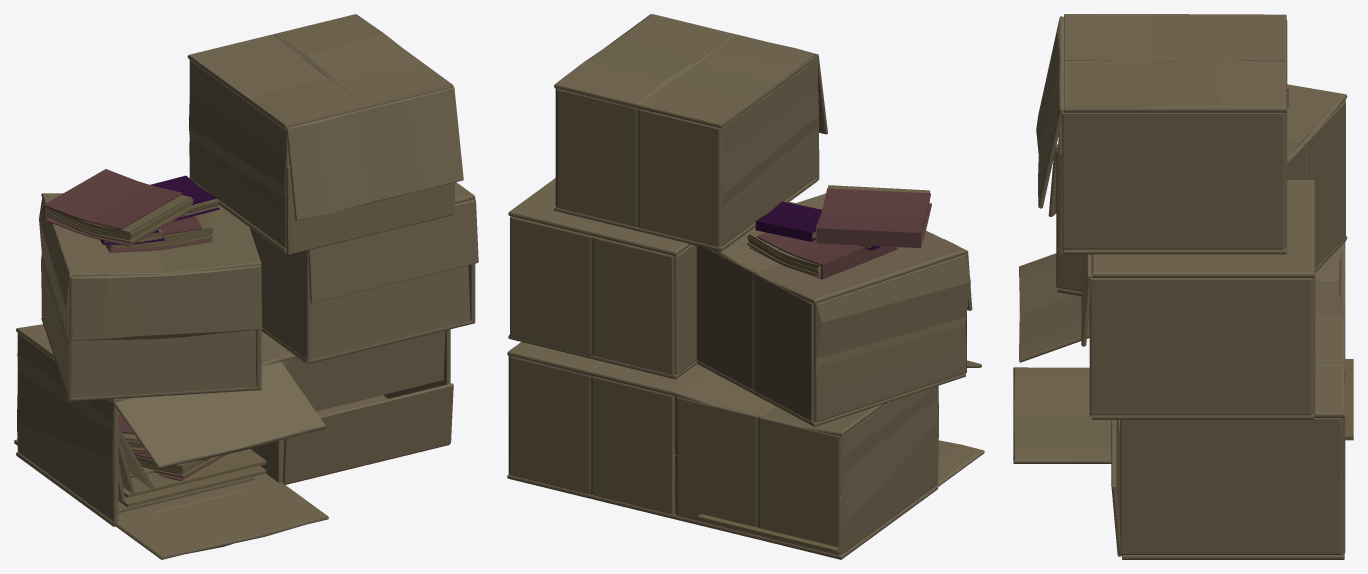
Rendered from yasch6.fbx.
The picture shows the model from 3 angles, left to right: view 1: azimuth 30°, elevation 25°; view 2: azimuth 150°, elevation 25°; view 3: azimuth 270°, elevation 25°; orthographic projection. The views are drawn at different scales.
Parts seen in each view (by area): view 1: Plane.000; view 2: Plane.000; view 3: Plane.000.
Boxes of the visible parts, x1,y1,x2,y2 form: Plane.000: (14,14,478,559); Plane.000: (507,14,984,559); Plane.000: (1013,14,1353,559).
Bounding box in the file's own units: 252 × 239 × 167.
